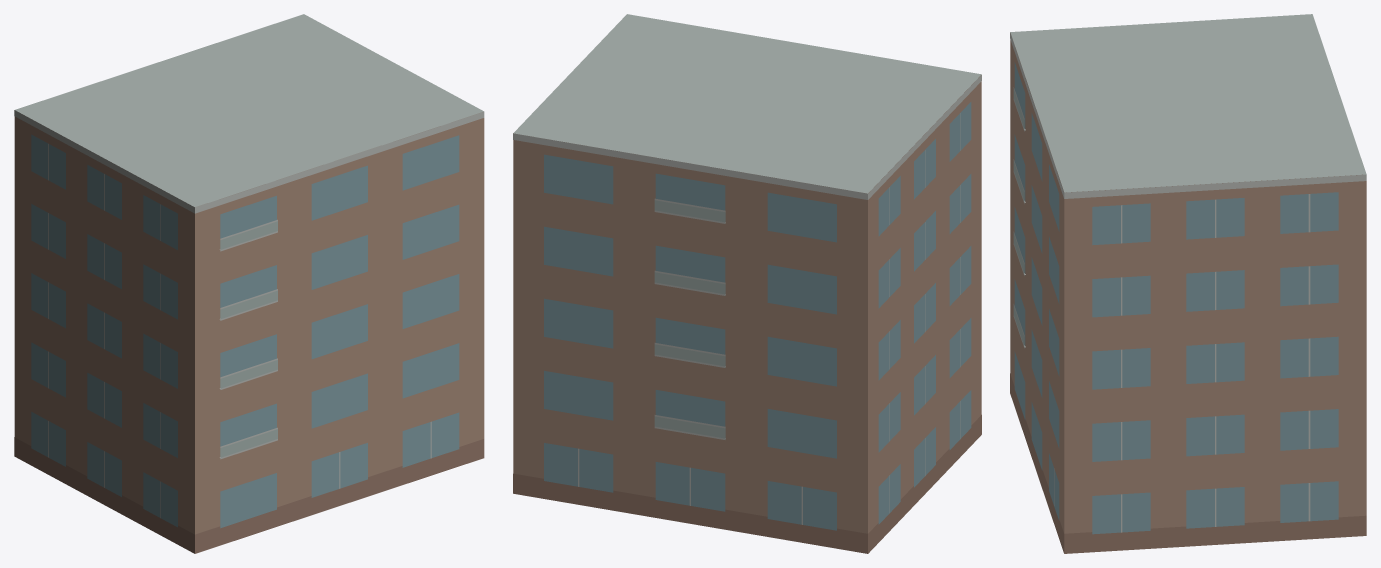
File: survey-upis-32615622.glb
3 views of the same model, side by side, from view 1: azimuth 30°, elevation 25°; view 2: azimuth 150°, elevation 25°; view 3: azimuth 270°, elevation 25° (orthographic). The views are drawn at different scales.
Visible parts, largest first — view 1: survey-upis-32615622.tmp; view 2: survey-upis-32615622.tmp; view 3: survey-upis-32615622.tmp.
Part boxes in pixels (box(x1,y1,x2,y2)): survey-upis-32615622.tmp: box(14, 14, 484, 553); survey-upis-32615622.tmp: box(513, 14, 981, 553); survey-upis-32615622.tmp: box(1010, 14, 1366, 553).
Bounding box in the file's own units: 14.31 × 13.5 × 12.08.
